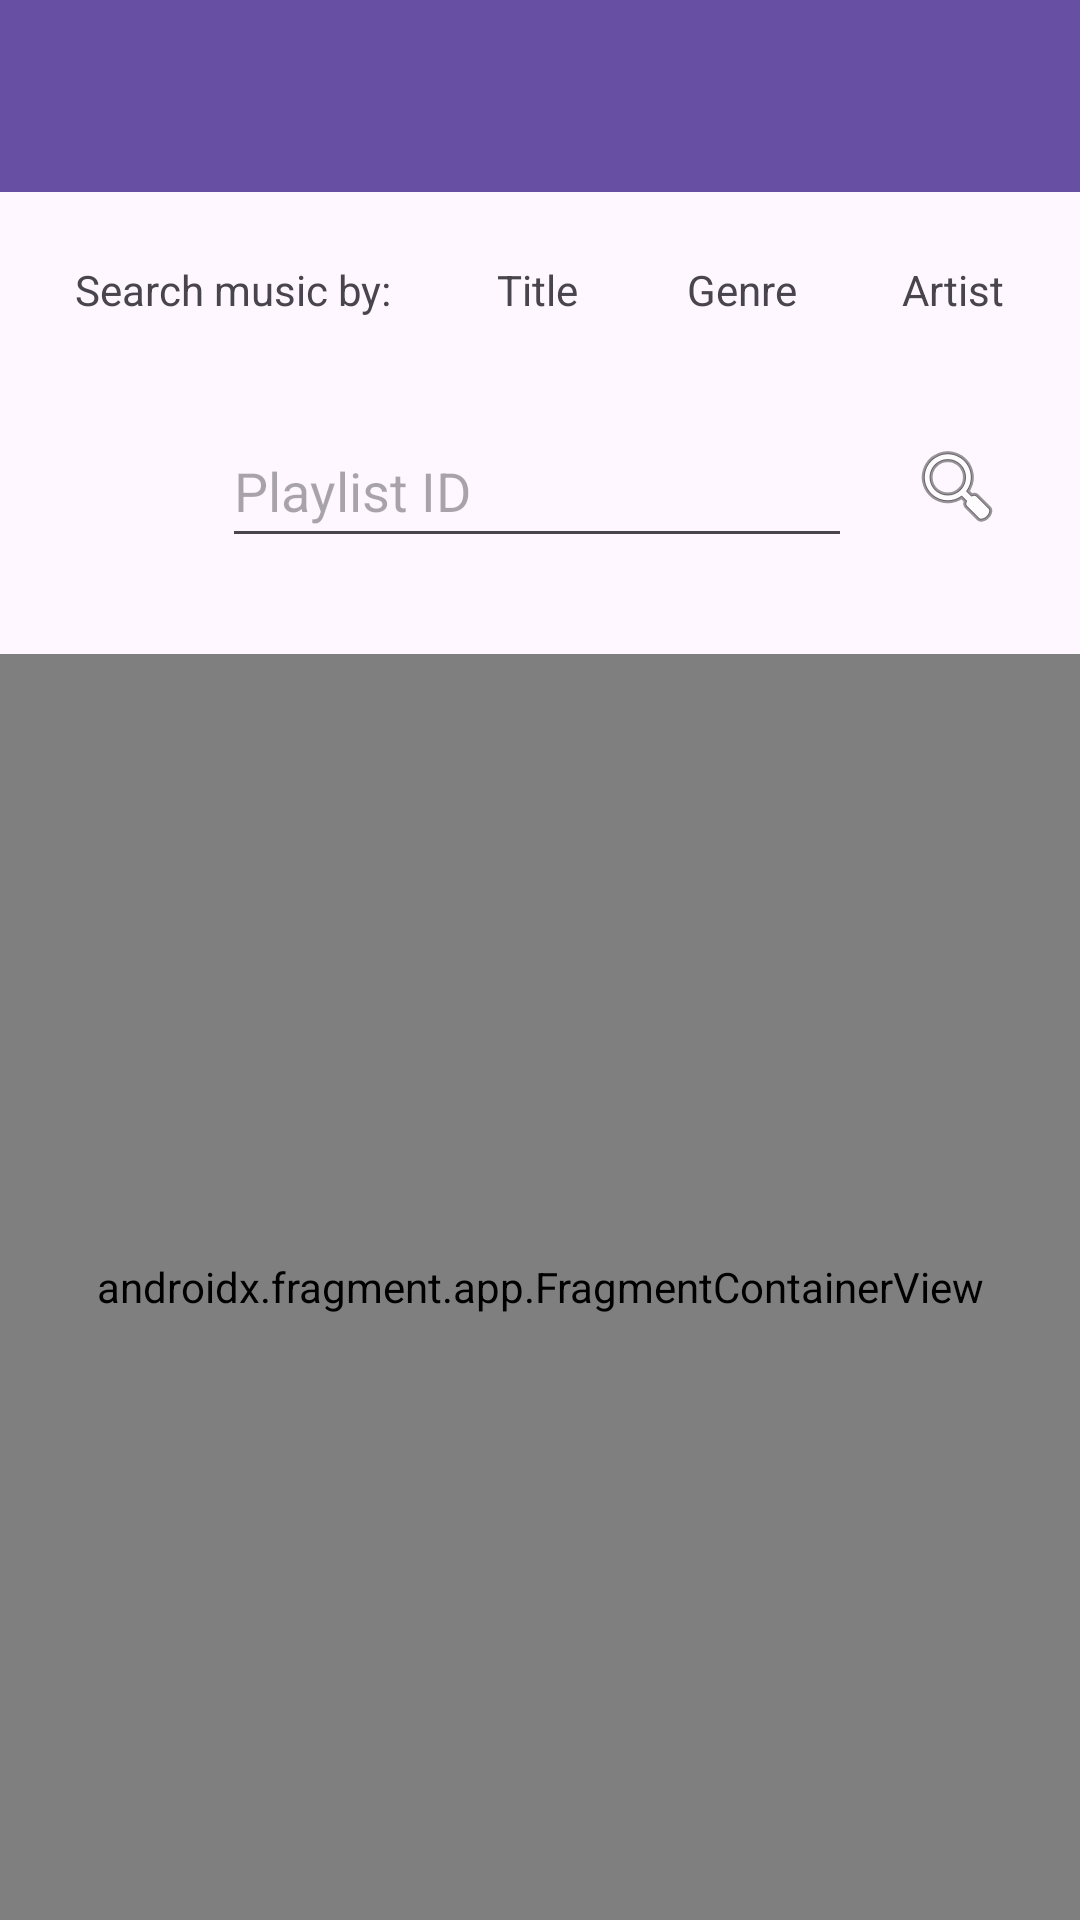

Icons on this 1080 x 1920 Android screen, each with its box as rect(x1, y1, x2, y2):
Search: rect(921, 451, 993, 522)
